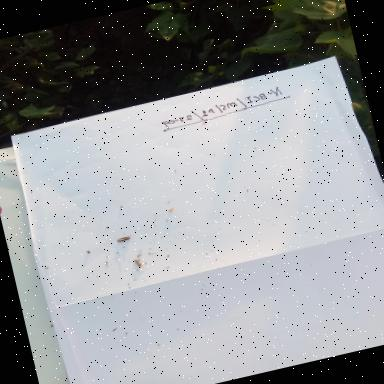pbw: (112, 230, 138, 248), (131, 256, 146, 271)
